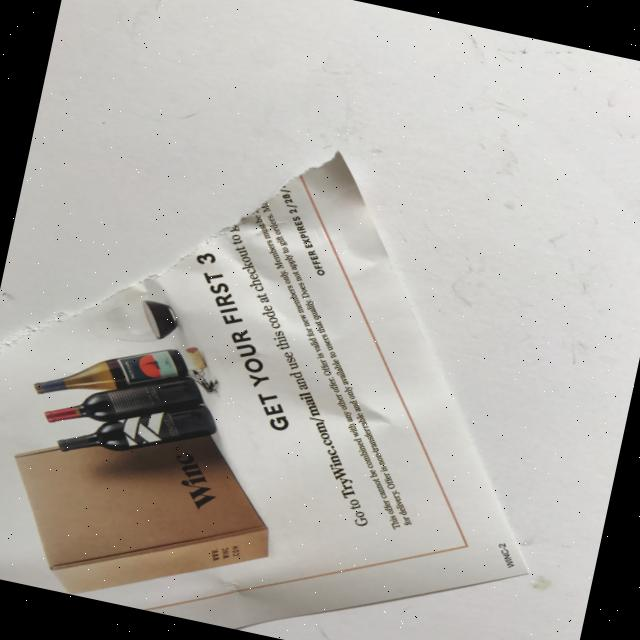paper: (0, 87, 608, 640)
